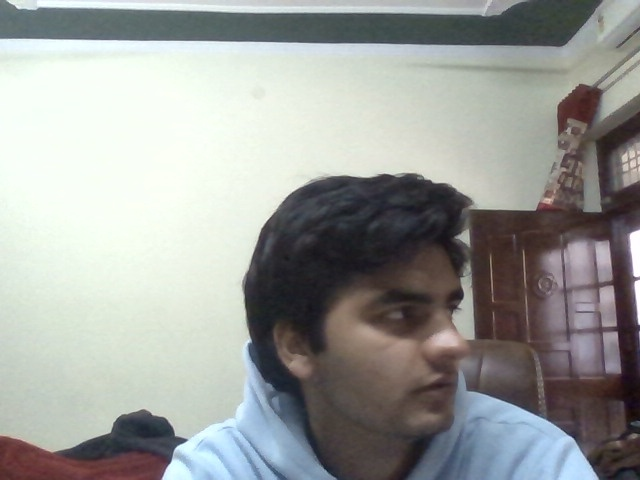fear: (362, 274, 465, 430)
open Eye: (379, 301, 430, 326)
